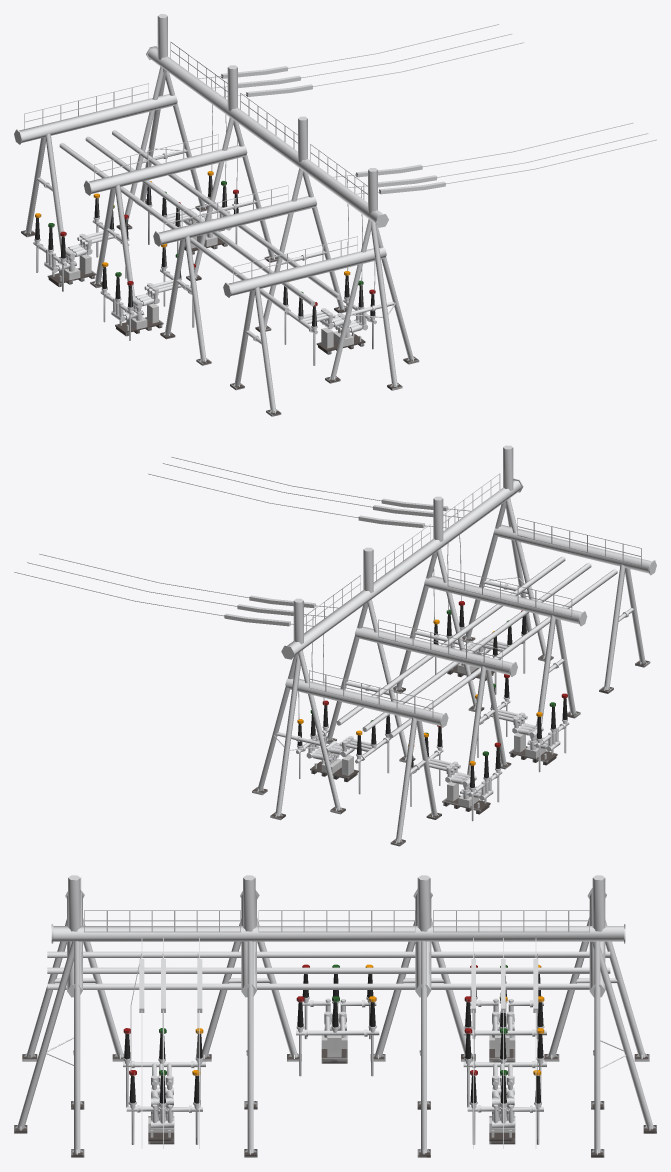
3 renders of one model, top to bottom at view 1: azimuth 30°, elevation 25°; view 2: azimuth 150°, elevation 25°; view 3: azimuth 270°, elevation 25°, orthographic. The views are drawn at different scales.
Visible parts, largest first — view 1: Mesh1_Group1_Model, 扫描; view 2: Mesh1_Group1_Model, 扫描; view 3: Mesh1_Group1_Model, 扫描.
Part boxes in pixels (bbox=[...]): Mesh1_Group1_Model: bbox=[14, 14, 419, 416]; 扫描: bbox=[198, 24, 656, 290]; Mesh1_Group1_Model: bbox=[252, 445, 656, 846]; 扫描: bbox=[14, 456, 471, 719]; Mesh1_Group1_Model: bbox=[14, 875, 656, 1157]; 扫描: bbox=[130, 938, 538, 1148].
Bounding box in the file's own units: 40.88 × 17.14 × 39.32.
Materials: 1 (1 with a texture image).
